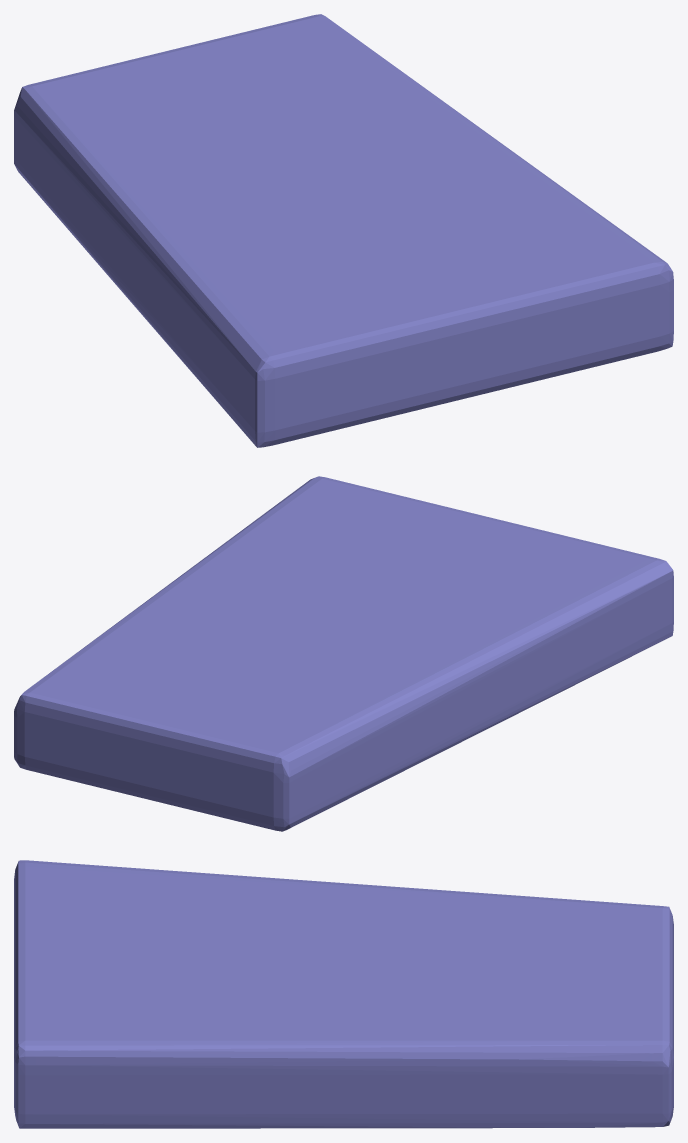
Rendered from right_hip_pitch_link_part_12.obj.
The picture shows the model from 3 angles, top to bottom: view 1: azimuth 30°, elevation 25°; view 2: azimuth 150°, elevation 25°; view 3: azimuth 270°, elevation 25°; orthographic projection. The views are drawn at different scales.
Size of the model in its own units: 0.0894 by 0.0179 by 0.129.
